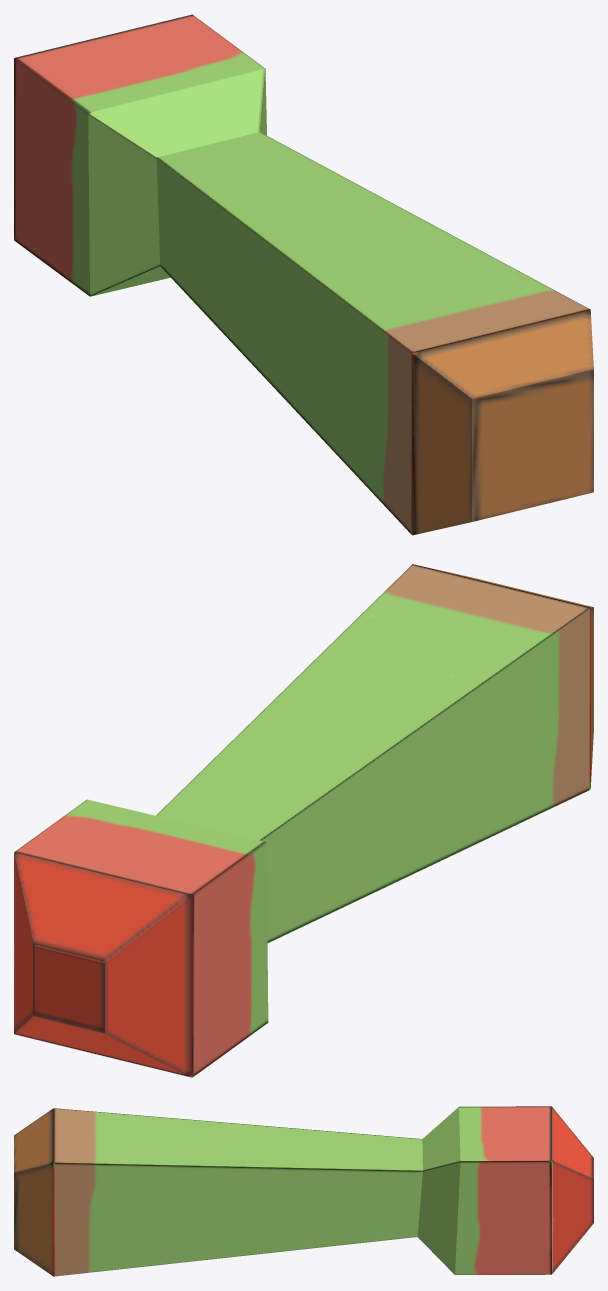
Rendered from shipBulletModel3.fbx.
The picture shows the model from 3 angles, top to bottom: view 1: azimuth 30°, elevation 25°; view 2: azimuth 150°, elevation 25°; view 3: azimuth 270°, elevation 25°; orthographic projection. The views are drawn at different scales.
Visible parts, largest first — view 1: Cube; view 2: Cube; view 3: Cube.
Boxes of the visible parts, x1=… form: Cube: x1=14, y1=14, x2=593, y2=535; Cube: x1=14, y1=564, x2=593, y2=1077; Cube: x1=14, y1=1106, x2=593, y2=1276.
Bounding box in the file's own units: 90.28 × 89.42 × 405.
